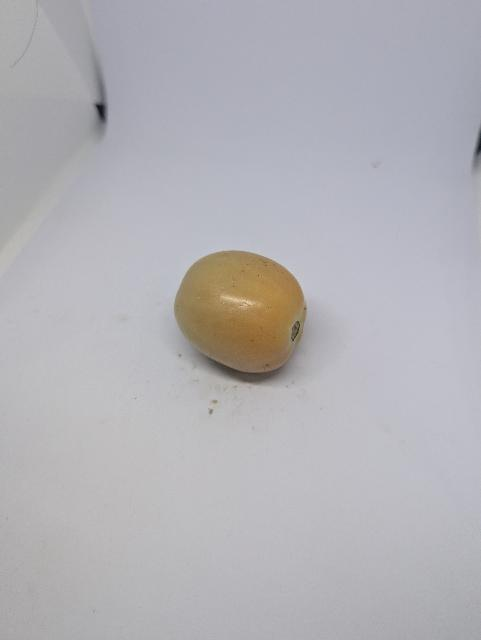breaker: (168, 247, 321, 386)
